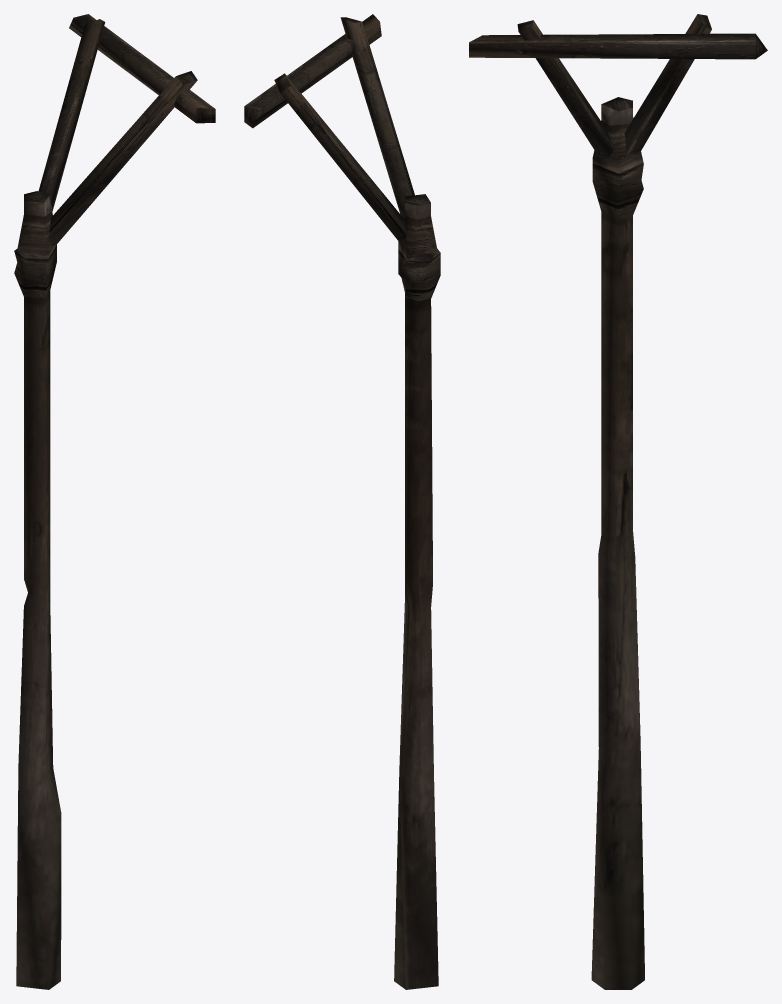
Rendered from SM_Forge_Flagpole.FBX.
The picture shows the model from 3 angles, left to right: view 1: azimuth 30°, elevation 25°; view 2: azimuth 150°, elevation 25°; view 3: azimuth 270°, elevation 25°; orthographic projection. The views are drawn at different scales.
Visible parts, largest first — view 1: SM_Forge_Flagpole; view 2: SM_Forge_Flagpole; view 3: SM_Forge_Flagpole.
Boxes of the visible parts, x1=… form: SM_Forge_Flagpole: x1=14, y1=14, x2=215, y2=989; SM_Forge_Flagpole: x1=244, y1=14, x2=440, y2=989; SM_Forge_Flagpole: x1=469, y1=14, x2=767, y2=989.
Size of the model in its own units: 32.81 by 55.52 by 209.
